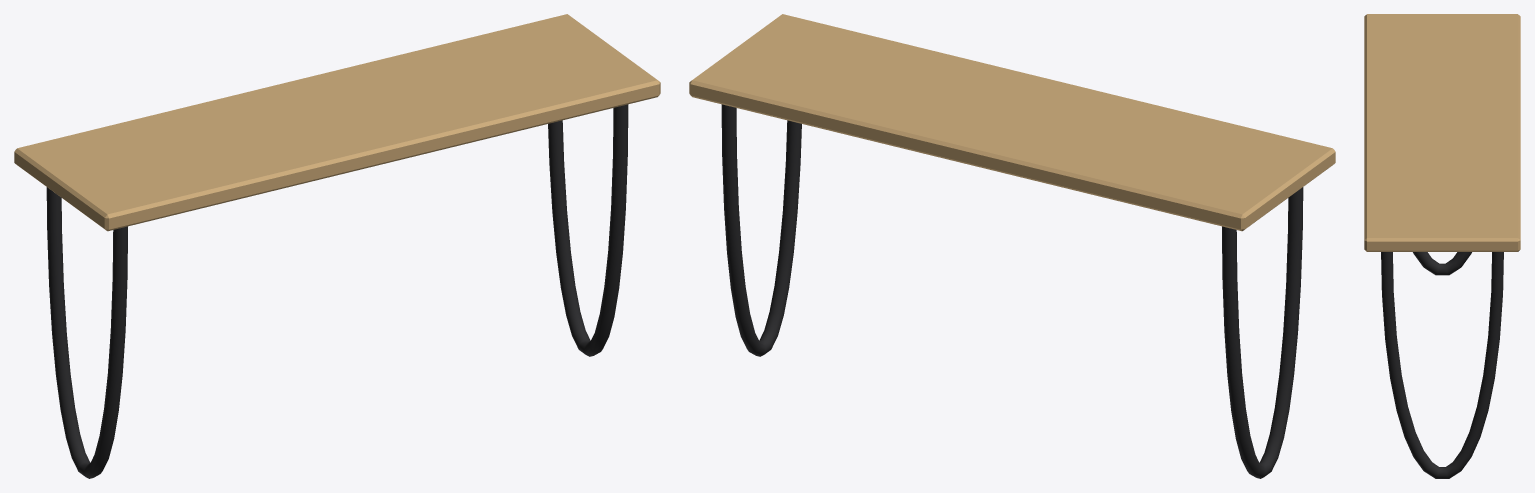
File: i_table_17.glb
3 views of the same model, side by side, from view 1: azimuth 30°, elevation 25°; view 2: azimuth 150°, elevation 25°; view 3: azimuth 270°, elevation 25° (orthographic). The views are drawn at different scales.
Visible parts, largest first — view 1: o, o.001, o.002; view 2: o, o.001, o.002; view 3: o, o.002, o.001.
Boxes of the visible parts, left/top/right/bottom form: o: left=14, top=14, right=660, bottom=231; o.001: left=46, top=187, right=127, bottom=478; o.002: left=548, top=104, right=628, bottom=356; o: left=689, top=14, right=1335, bottom=231; o.001: left=1222, top=187, right=1303, bottom=478; o.002: left=721, top=104, right=801, bottom=356; o: left=1364, top=14, right=1520, bottom=251; o.002: left=1381, top=252, right=1503, bottom=478; o.001: left=1413, top=252, right=1471, bottom=275.
Size of the model in its own units: 1.2 by 0.6194 by 0.35.
